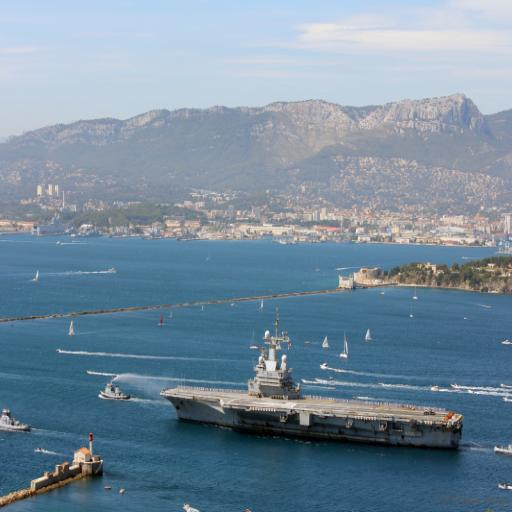Portanaves: (158, 306, 467, 456)
